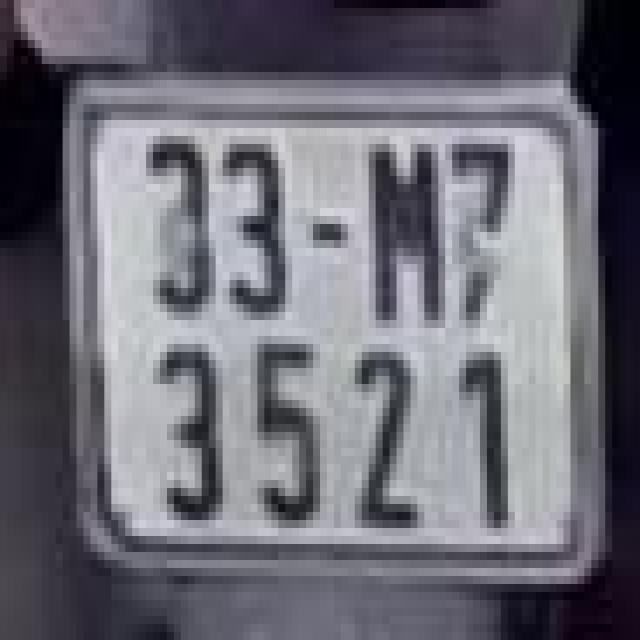1: (445, 344, 522, 528)
2: (344, 344, 421, 536)
3: (157, 340, 226, 524), (146, 136, 216, 312), (226, 136, 296, 312)
5: (247, 328, 330, 536)
7: (449, 140, 518, 332)
M: (365, 136, 442, 320)
